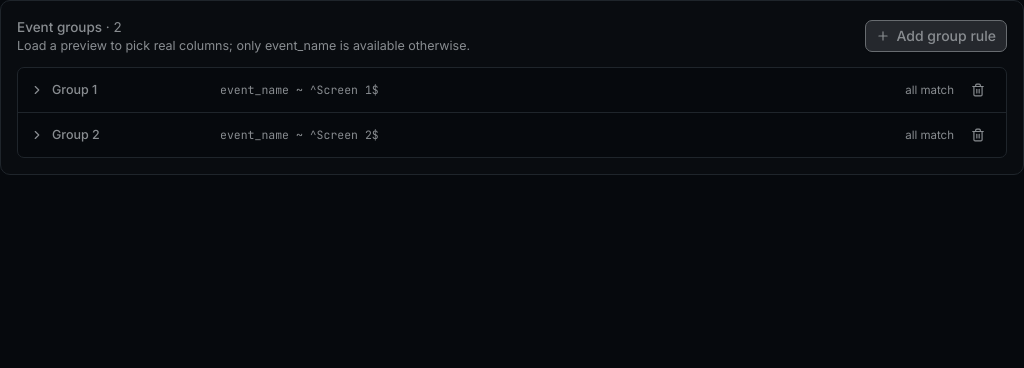
EventGroupRulesEditor — one line per rule (#247) › lists saved rules closed, with their conditions on the line, and a count
The image size is (1024, 368).
Expected: the text "· 2" is shown, [106,19,122,35]
Expected: the text "event_name ~ ^Screen 1$" is shown, [220,82,379,97]
Click the button named "Edit group rule \"Group 1\"" at x=75, y=90, box [30,81,954,99]
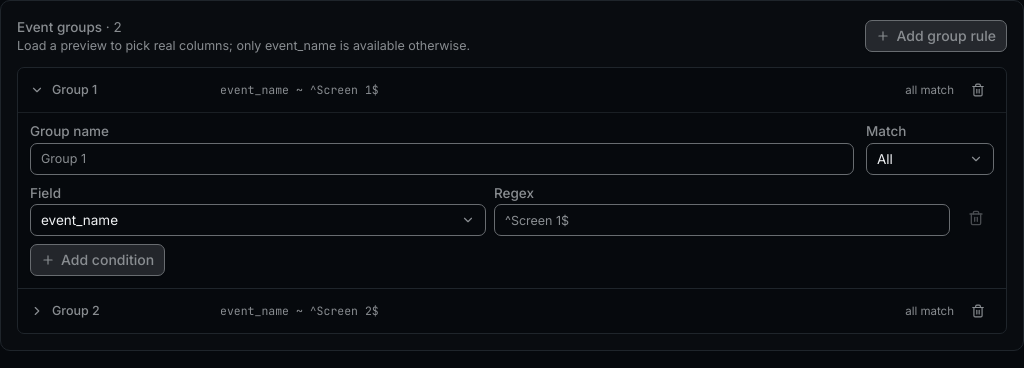
Expected: the field labelled "Group name" holds "Group 1", [30,142,854,174]
